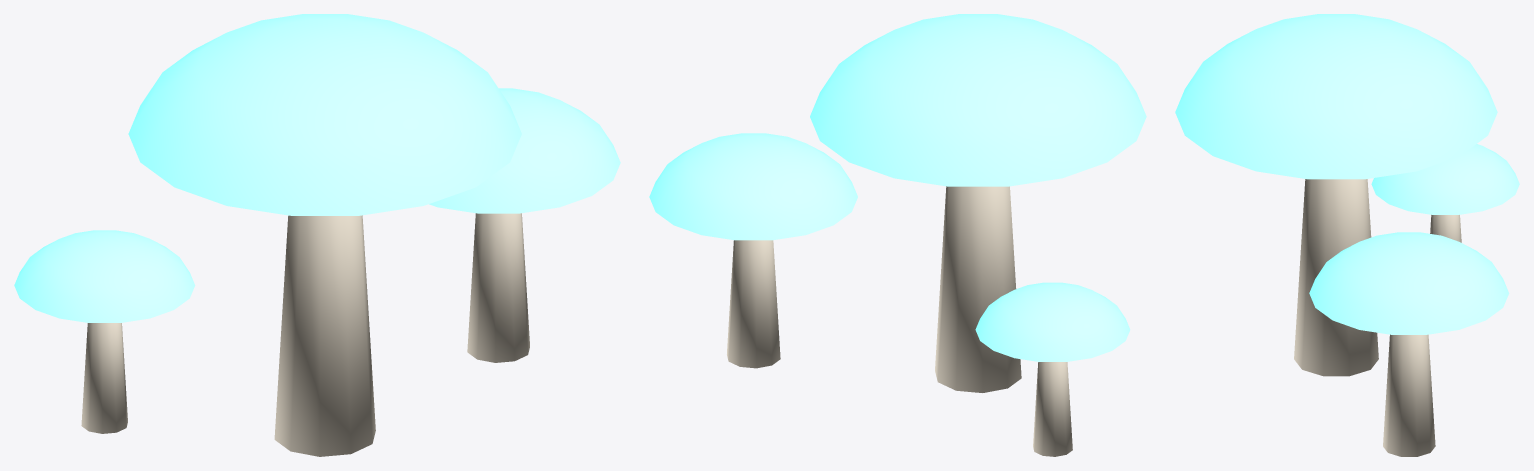
The model's file is les-houba-modra.glb.
3 views of the same model, side by side, from view 1: azimuth 30°, elevation 25°; view 2: azimuth 150°, elevation 25°; view 3: azimuth 270°, elevation 25° (orthographic). The views are drawn at different scales.
Visible parts, largest first — view 1: houba-modra; view 2: houba-modra; view 3: houba-modra.
Part boxes in pixels (x1,y1,x2,y2): houba-modra: (14,14,620,456); houba-modra: (649,14,1146,456); houba-modra: (1175,14,1519,456).
Bounding box in the file's own units: 0.8628 × 0.5874 × 0.5682.
